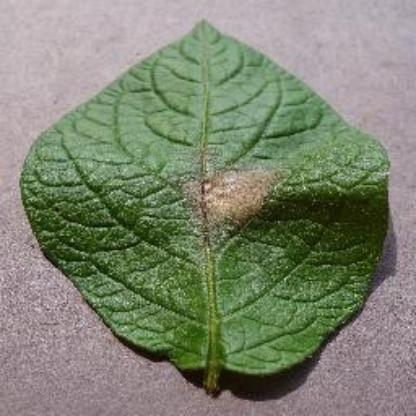Late-Blight: (18, 14, 398, 396)
